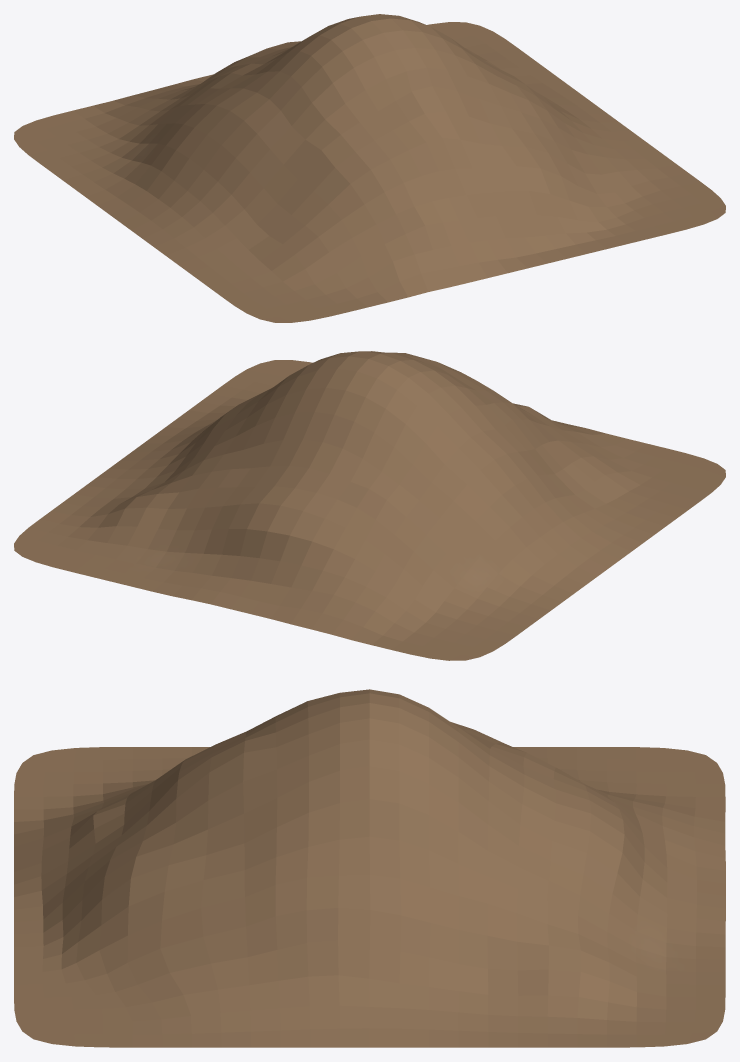
File: dirtMound.fbx
3 views of the same model, one above another, from view 1: azimuth 30°, elevation 25°; view 2: azimuth 150°, elevation 25°; view 3: azimuth 270°, elevation 25° (orthographic). The views are drawn at different scales.
Parts seen in each view (by area): view 1: SandMound; view 2: SandMound; view 3: SandMound.
Part boxes in pixels (x1,y1,x2,y2): SandMound: (14, 14, 725, 322); SandMound: (14, 351, 725, 660); SandMound: (14, 689, 725, 1047).
Size of the model in its own units: 1167 by 353 by 1168.
